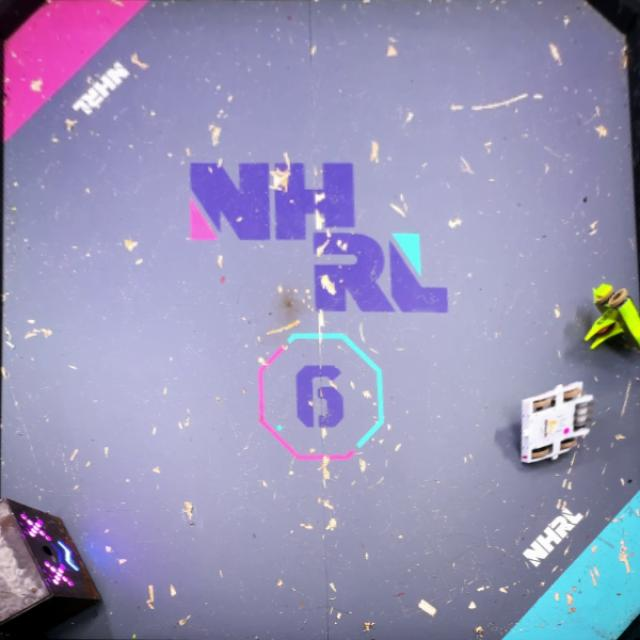housebot: (0, 498, 101, 640)
robot: (518, 380, 594, 465), (584, 282, 640, 351)
